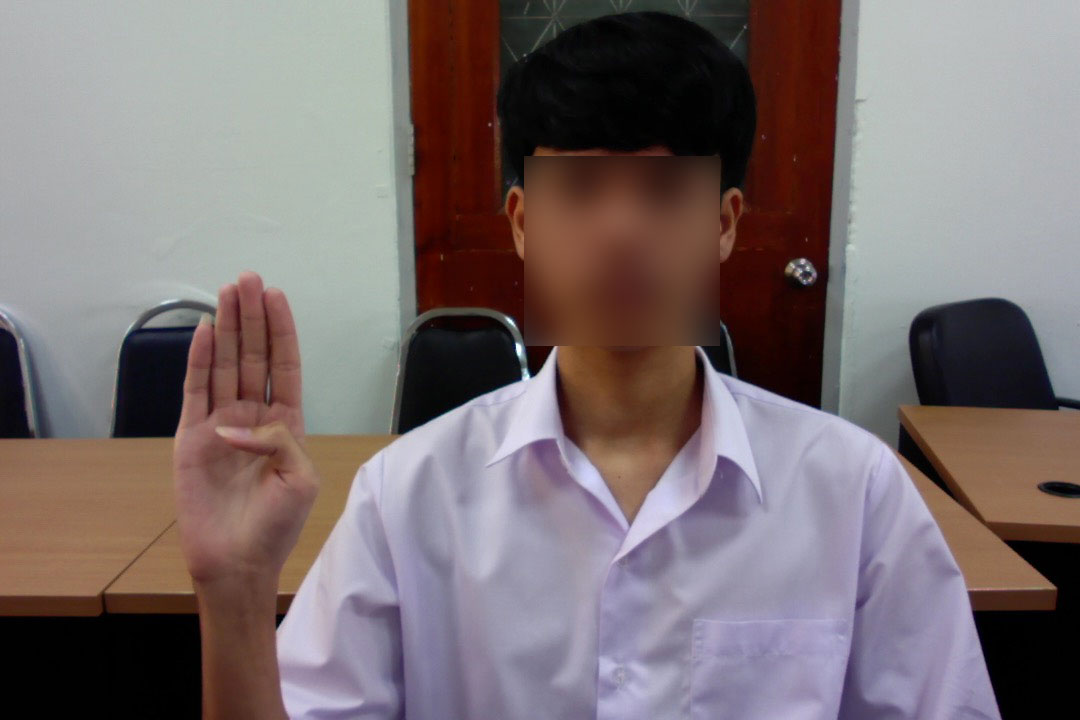bor: (168, 265, 323, 598)
